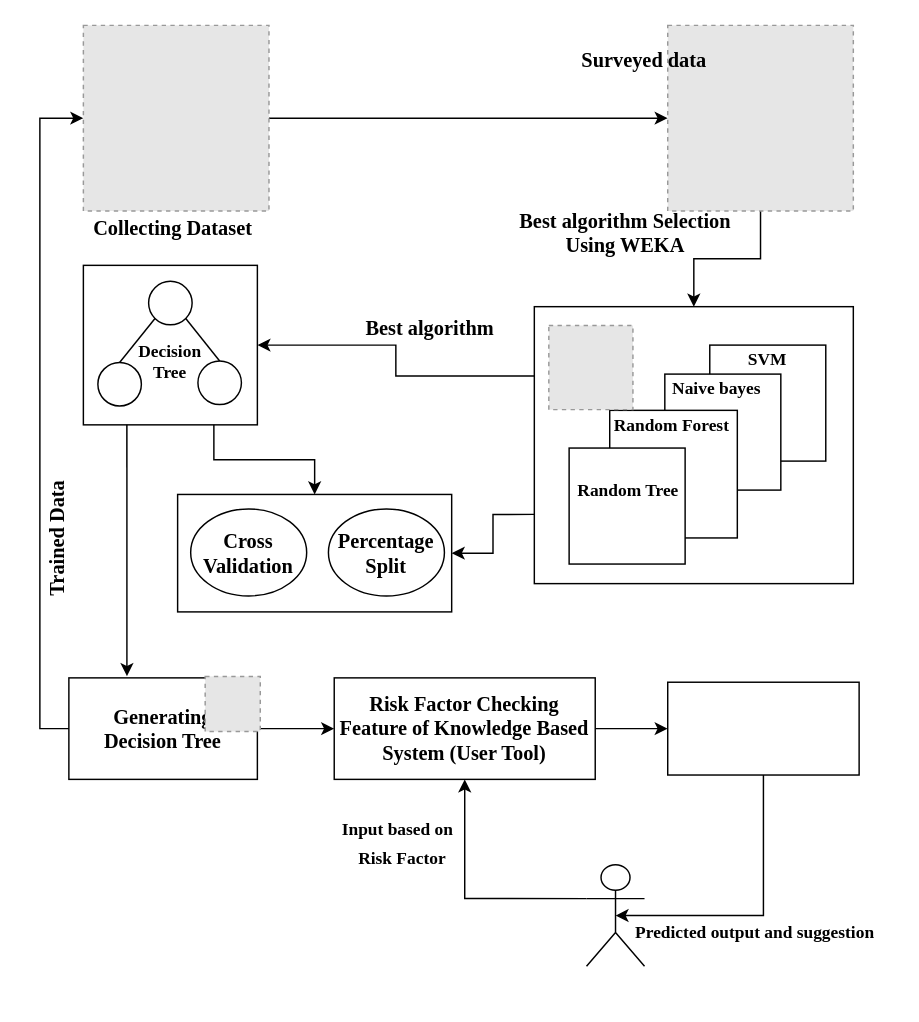
The diagram is 919 pixels wide and 1022 high, and some of its shapes have lost their labels. Grey dashed boxes stand in for pictures. The centre of each missing label's shape, as x and y in pixels:
Prediction: the point at 762,728
User: the point at 615,914
